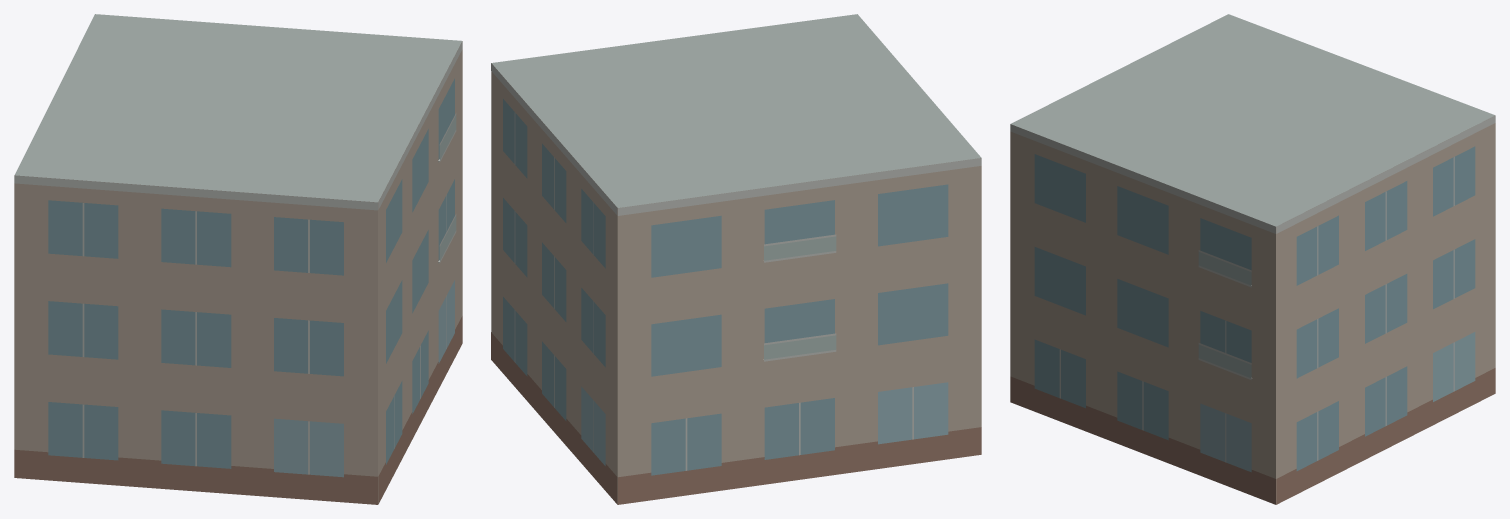
File: survey-upis-32960995.glb
3 renders of one model, left to right at view 1: azimuth 30°, elevation 25°; view 2: azimuth 150°, elevation 25°; view 3: azimuth 270°, elevation 25°, orthographic. The views are drawn at different scales.
Visible parts, largest first — view 1: survey-upis-32960995.tmp; view 2: survey-upis-32960995.tmp; view 3: survey-upis-32960995.tmp.
Part boxes in pixels (bbox=[...]): survey-upis-32960995.tmp: bbox=[14, 14, 462, 504]; survey-upis-32960995.tmp: bbox=[491, 14, 981, 504]; survey-upis-32960995.tmp: bbox=[1010, 14, 1495, 504].
Size of the model in its own units: 15.01 by 9.15 by 14.47.
